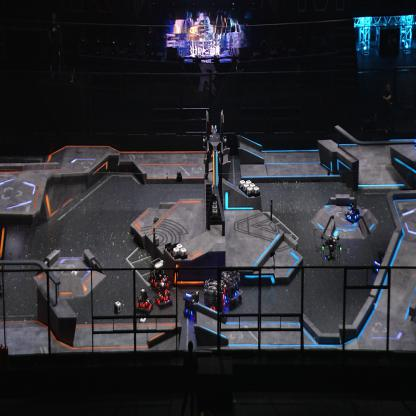car: (203, 277, 226, 320), (221, 269, 242, 308), (148, 257, 169, 291), (182, 288, 199, 318), (155, 282, 173, 309), (136, 288, 154, 314), (344, 198, 360, 223), (372, 249, 387, 273)
